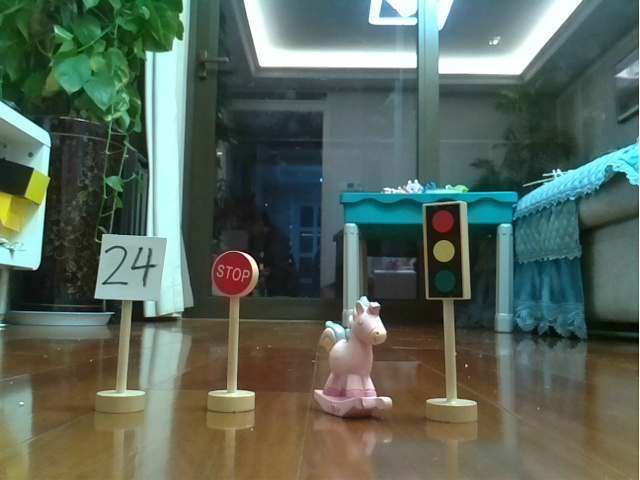Horse: (305, 291, 396, 422)
Red Traffic Light: (419, 194, 490, 427)
Speed Limit 24: (89, 226, 170, 417)
Stop Sign: (203, 241, 268, 418)
